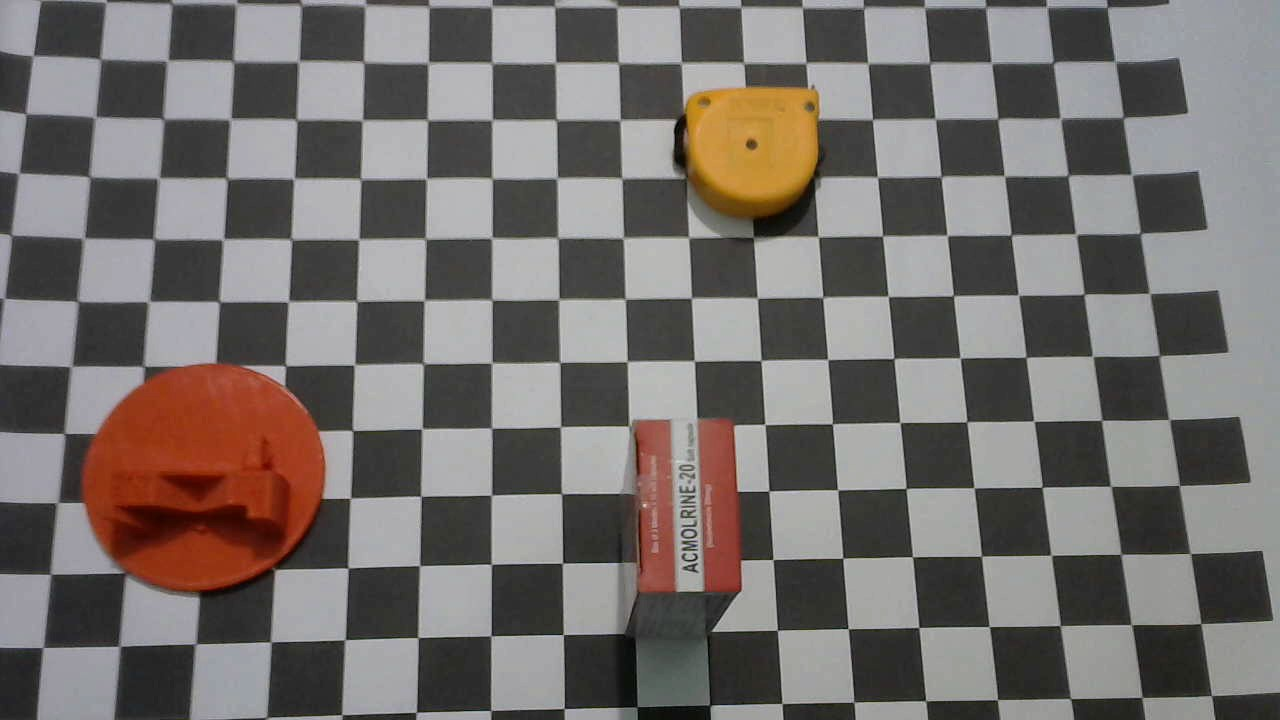blue: (670, 87, 824, 218)
green: (79, 361, 326, 594)
red: (616, 419, 742, 637)
